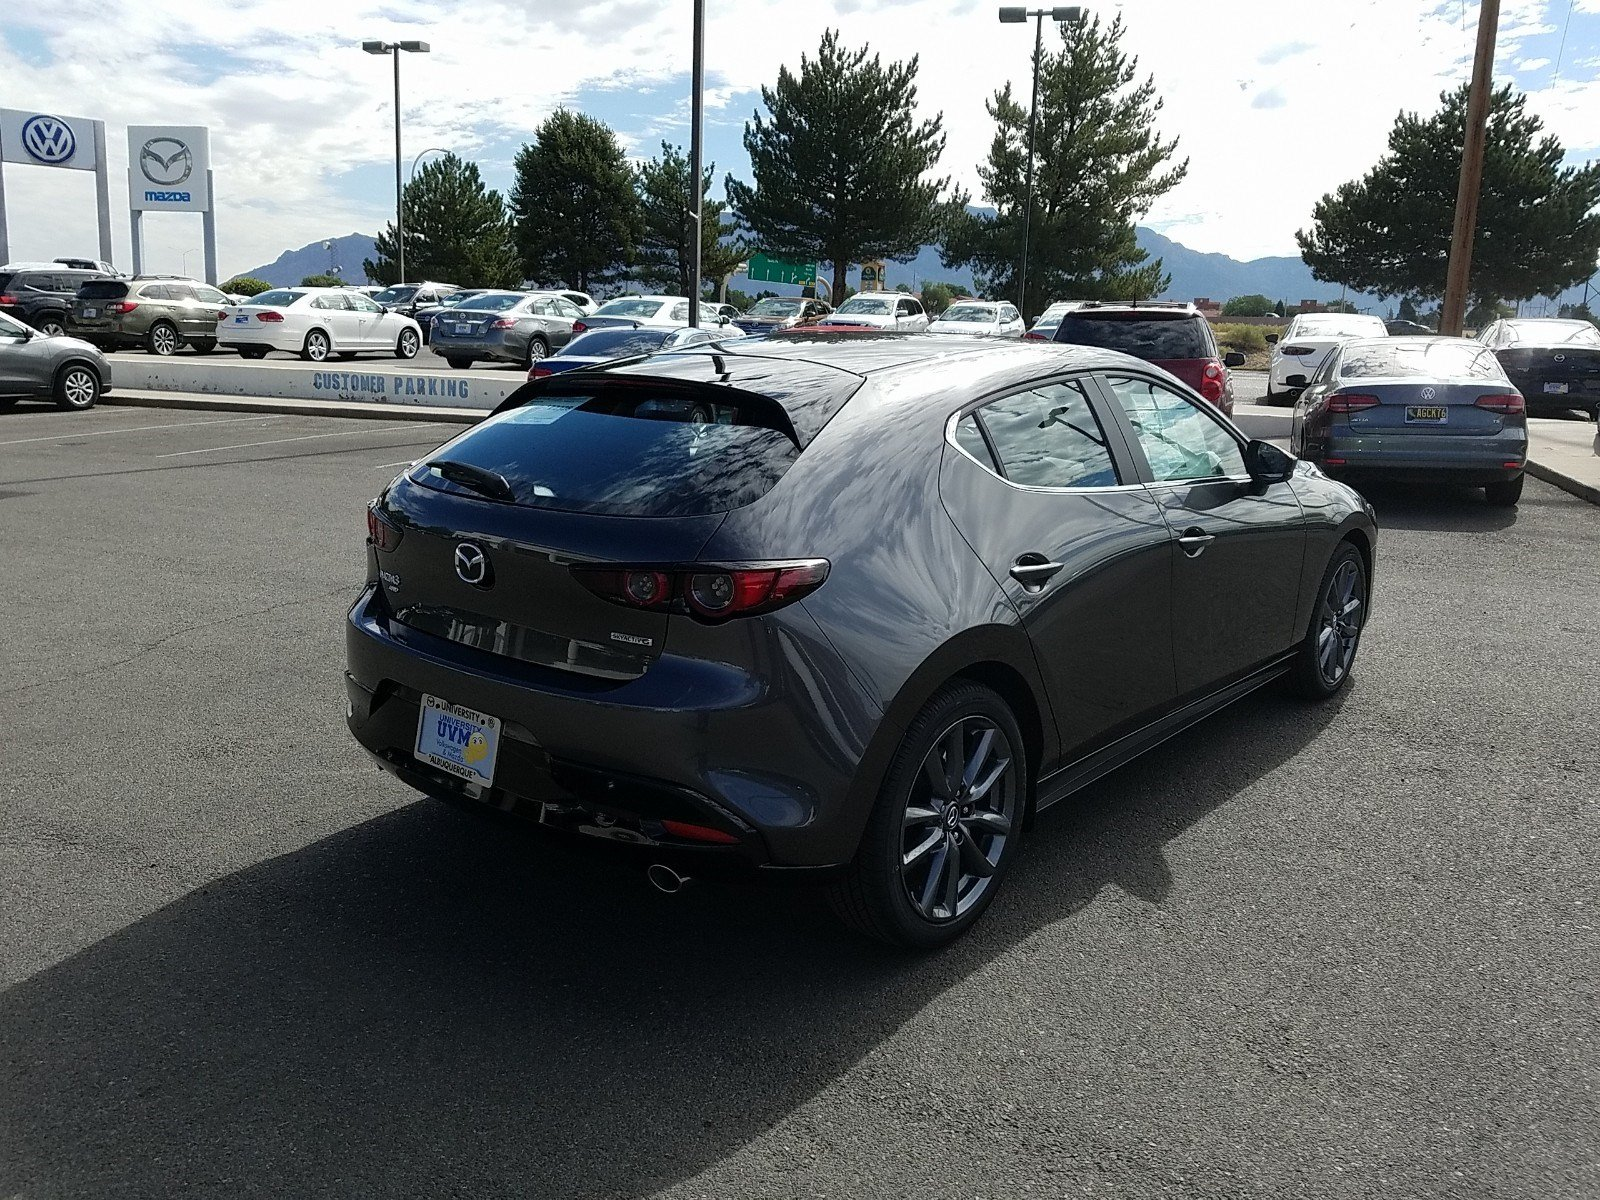Mazda3 Hatchback: (340, 330, 1383, 957)
